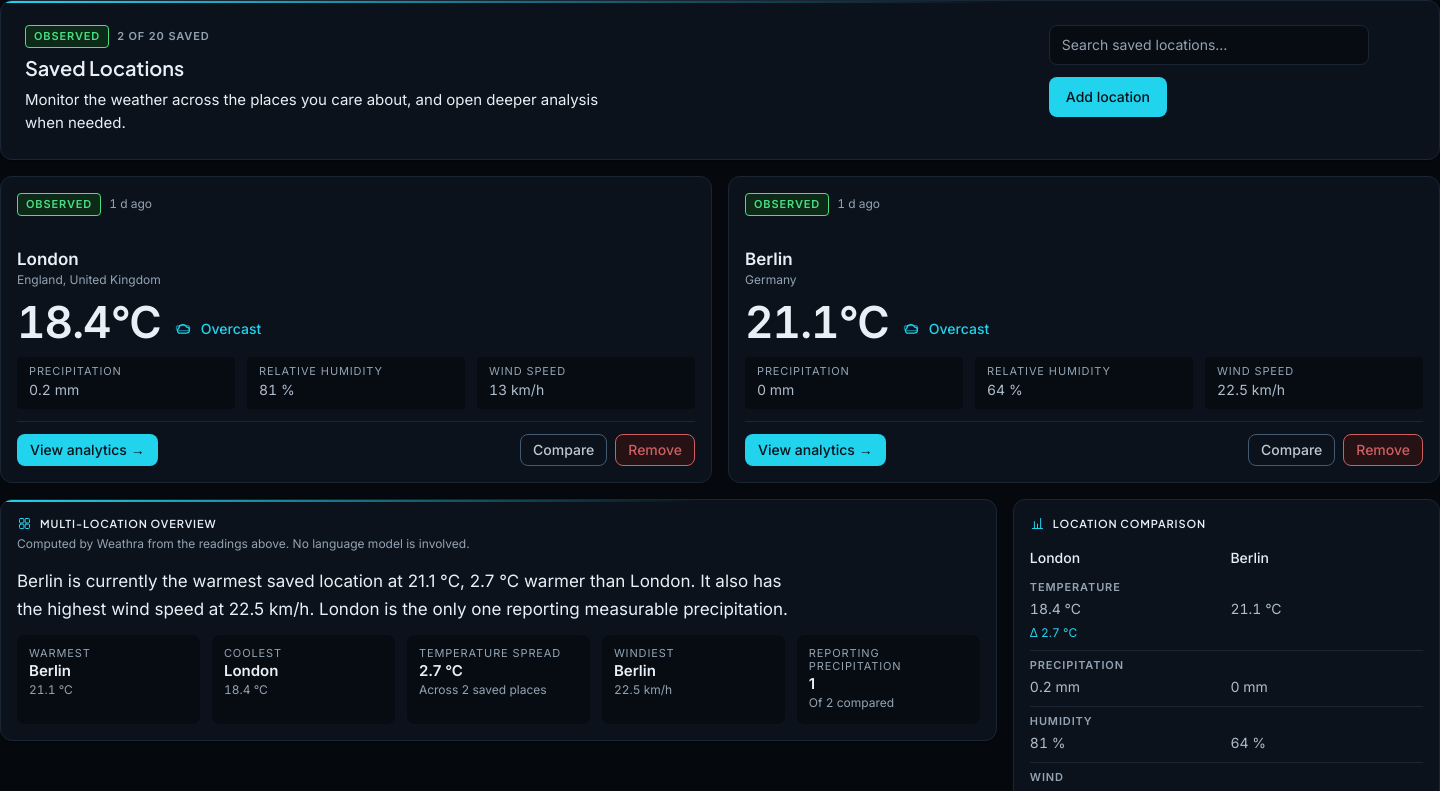
Test: removing a location asks first › cancels without removing it, and puts focus back on the control that opened it
The image size is (1440, 791).
Click the button with aria-label "Remove saved location: Berlin" at (1383, 450), box [1343,434,1423,466]
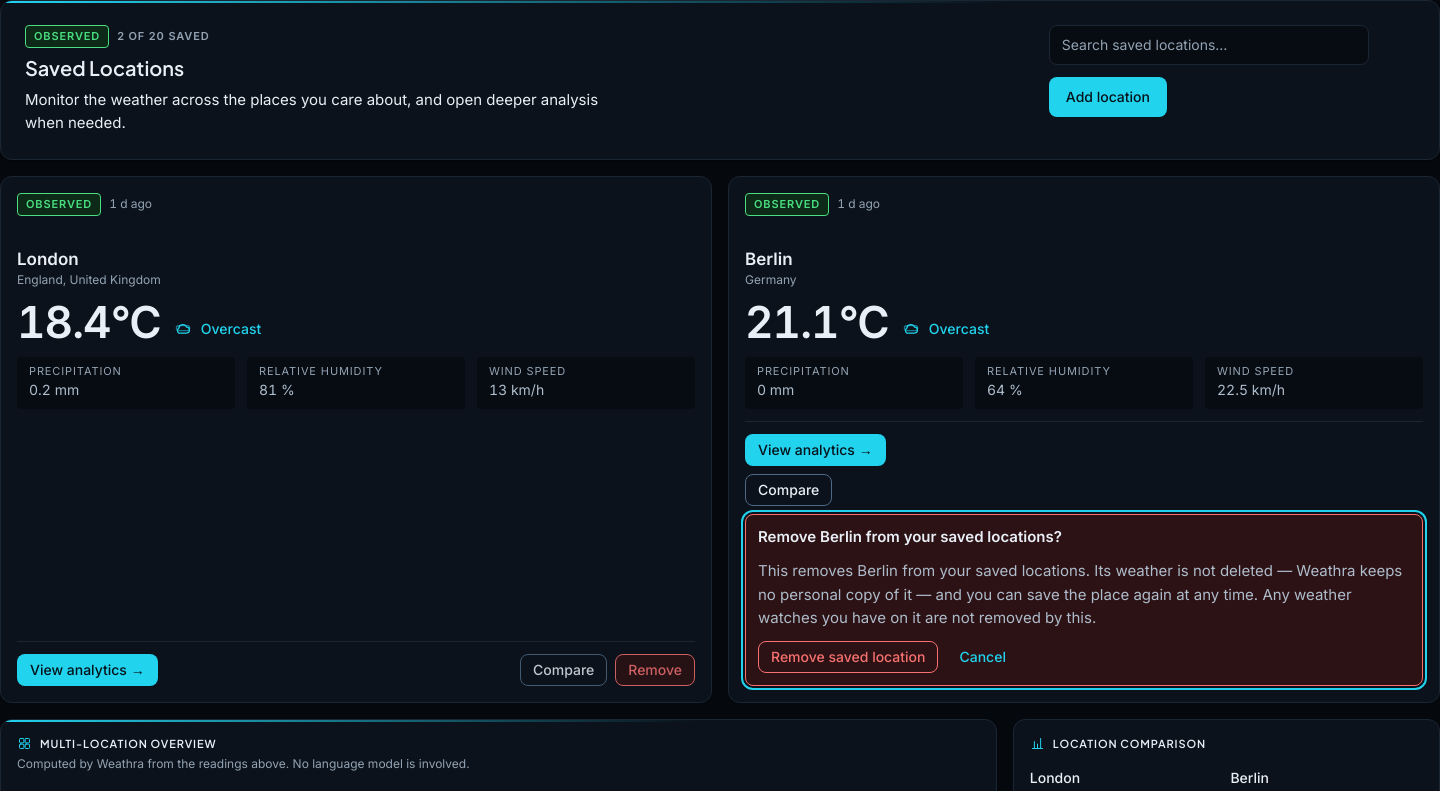
Click the button "Cancel" at (983, 657), box [946,641,1019,673]
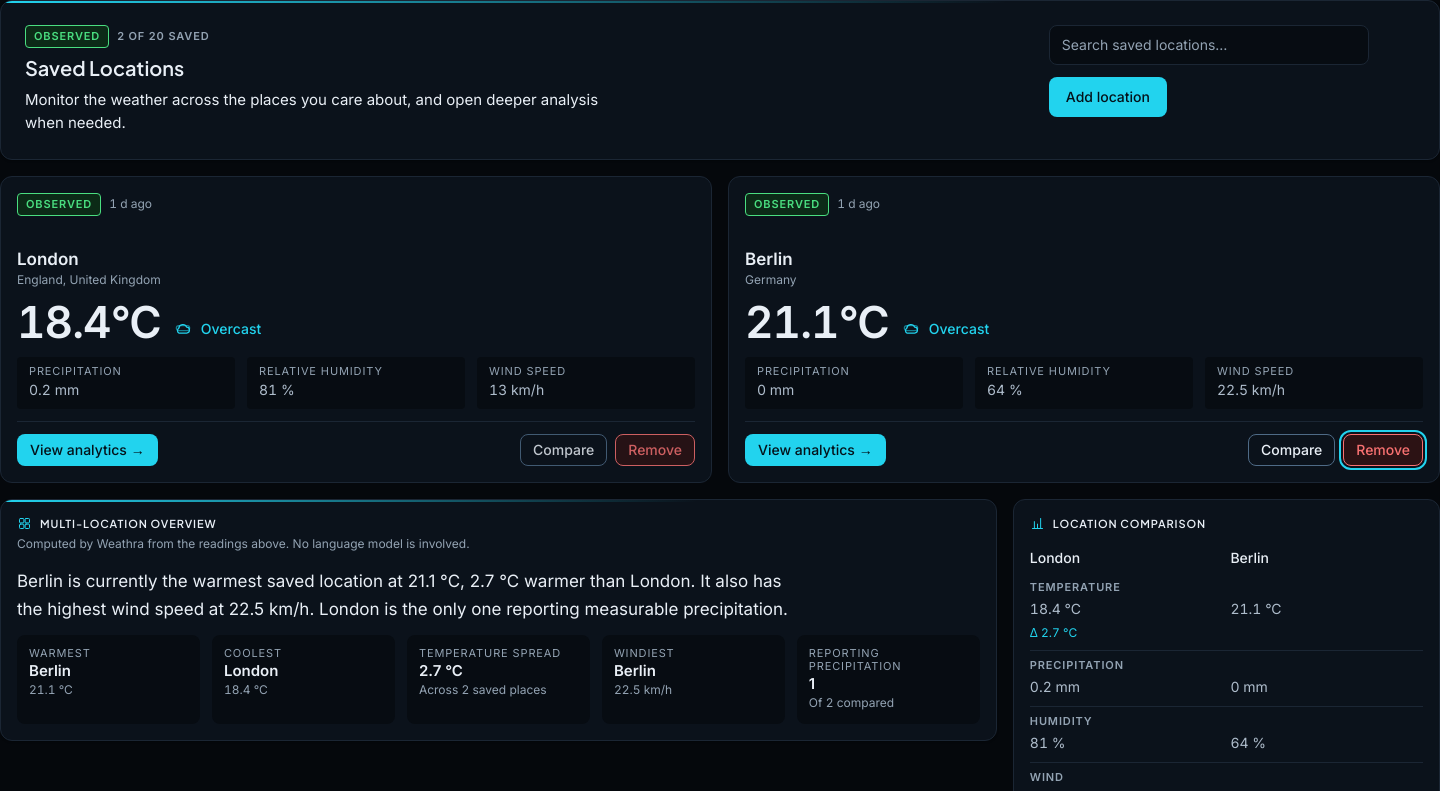
expect the text "Remove Berlin from your saved locations?" is gone: met
